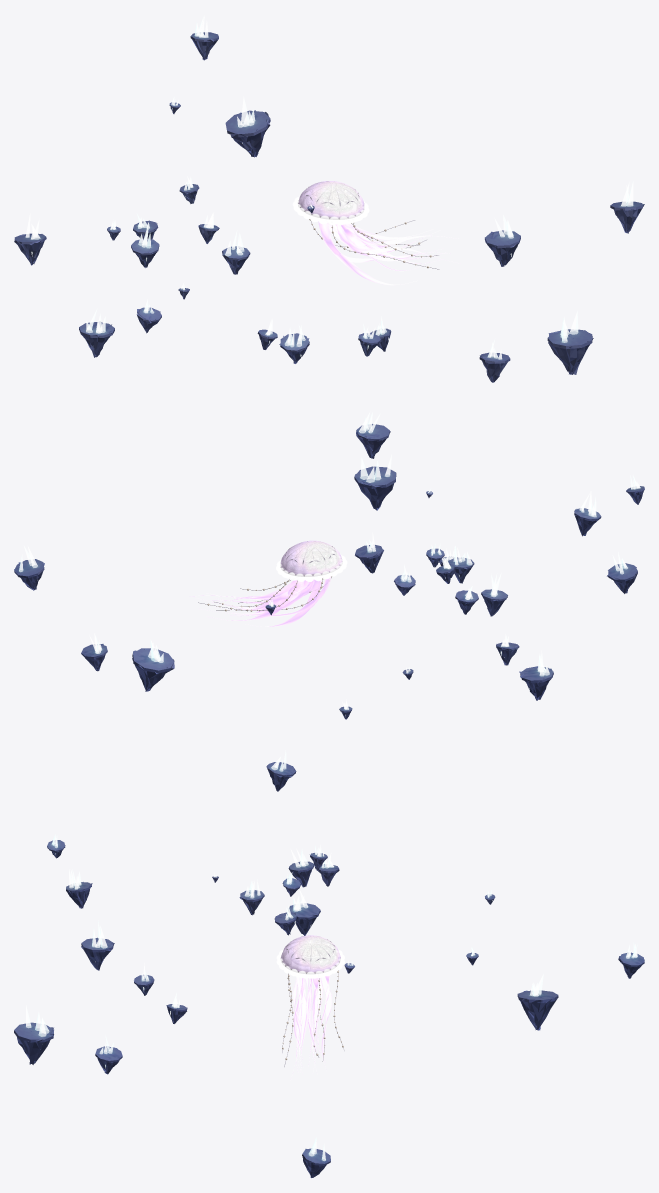
Rendered from voyage.glb.
The picture shows the model from 3 angles, top to bottom: view 1: azimuth 30°, elevation 25°; view 2: azimuth 150°, elevation 25°; view 3: azimuth 270°, elevation 25°; orthographic projection. The views are drawn at different scales.
Parts seen in each view (by area): view 1: JF_Tentacles, JF_Bell, Island_16_M, Island_11_M, Island_09_M, Island_08_M, Island_15_M, Island_01_M, Island_18_M, Island_13_M, Island_04_M, Island_00_M (+1 smaller); view 2: JF_Tentacles, JF_Bell, Island_16_M, Island_11_M, Island_09_M, Island_08_M, Island_15_M, Island_01_M, Island_18_M, Island_13_M, Island_00_M, Island_17_M (+1 smaller); view 3: JF_Tentacles, JF_Bell, Island_16_M, Island_11_M, Island_09_M, Island_08_M, Island_15_M.
Part boxes in pixels (x1,y1,x2,y2): JF_Tentacles: (309, 219, 460, 285); JF_Bell: (292, 181, 369, 225); Island_16_M: (547, 311, 593, 374); Island_11_M: (225, 96, 270, 157); Island_09_M: (484, 215, 520, 266); Island_08_M: (79, 308, 114, 357); Island_15_M: (610, 181, 644, 233); Island_01_M: (14, 213, 46, 265); Island_18_M: (279, 325, 309, 363); Island_13_M: (479, 339, 510, 382); Island_04_M: (222, 230, 250, 274); Island_00_M: (131, 223, 159, 267); JF_Tentacles: (190, 576, 331, 626); JF_Bell: (276, 540, 347, 581); Island_16_M: (354, 454, 396, 510); Island_11_M: (132, 640, 174, 691); Island_09_M: (356, 412, 390, 458); Island_08_M: (519, 650, 553, 700); Island_15_M: (14, 546, 44, 590); Island_01_M: (607, 552, 637, 593); Island_18_M: (574, 491, 601, 536); Island_13_M: (355, 532, 383, 573); Island_00_M: (481, 573, 507, 616); Island_17_M: (81, 633, 107, 671); JF_Tentacles: (282, 970, 344, 1080); JF_Bell: (276, 935, 344, 978); Island_16_M: (14, 1005, 53, 1064); Island_11_M: (517, 974, 558, 1030); Island_09_M: (81, 920, 114, 970); Island_08_M: (289, 889, 320, 935); Island_15_M: (302, 1137, 330, 1177).
Bounding box in the file's own units: 90.19 × 24.96 × 85.3.
